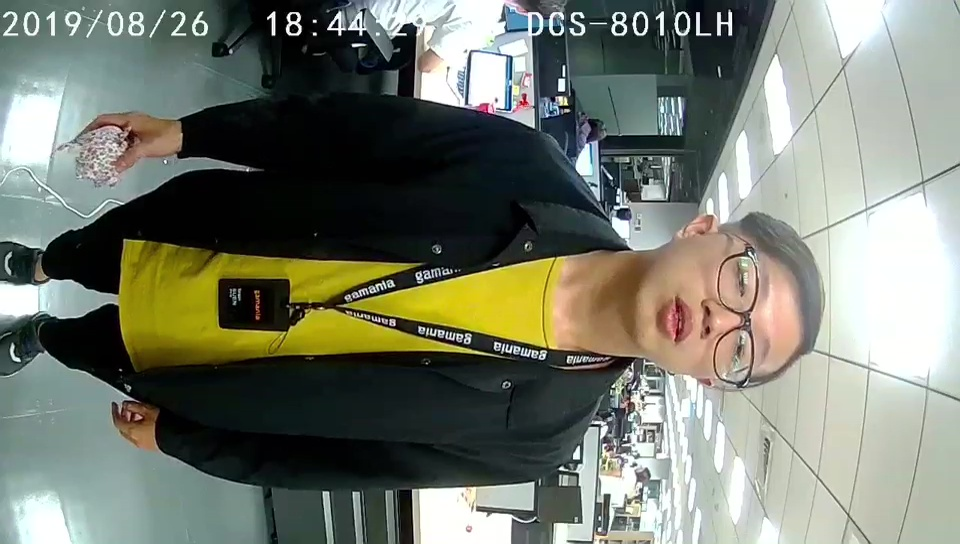pig: (75, 124, 131, 189)
